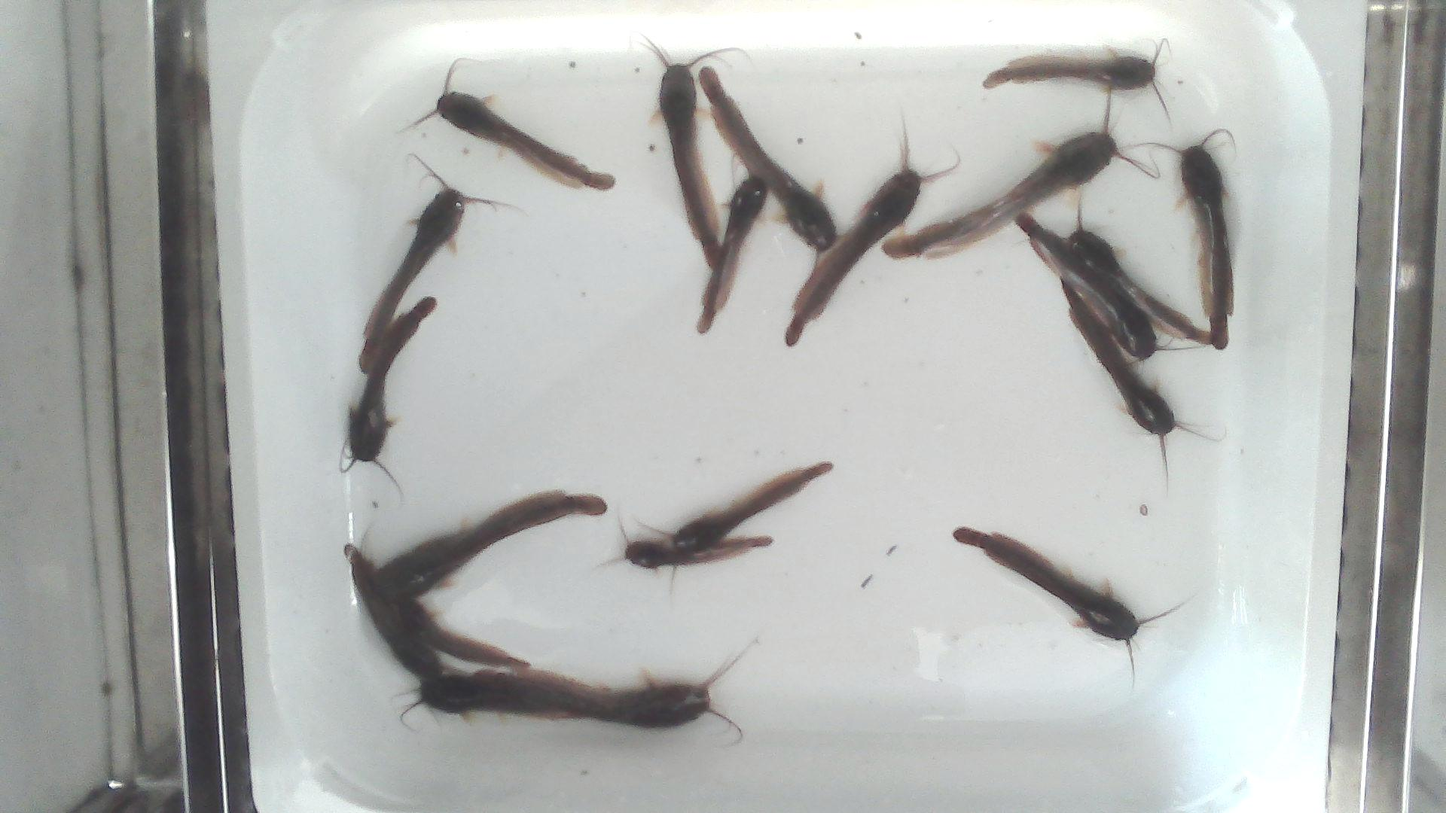lele: (882, 90, 1157, 258), (785, 115, 957, 346), (952, 527, 1182, 686), (1062, 275, 1226, 493), (363, 152, 517, 373), (478, 640, 760, 741), (1018, 215, 1200, 366), (699, 68, 834, 265), (411, 62, 615, 190), (375, 490, 605, 603), (633, 33, 737, 267), (1132, 129, 1233, 349), (1070, 194, 1211, 345), (339, 295, 438, 497), (636, 461, 835, 550), (984, 39, 1174, 124), (347, 541, 461, 681), (697, 174, 769, 334), (387, 678, 609, 726), (596, 513, 774, 570), (402, 597, 528, 668)
